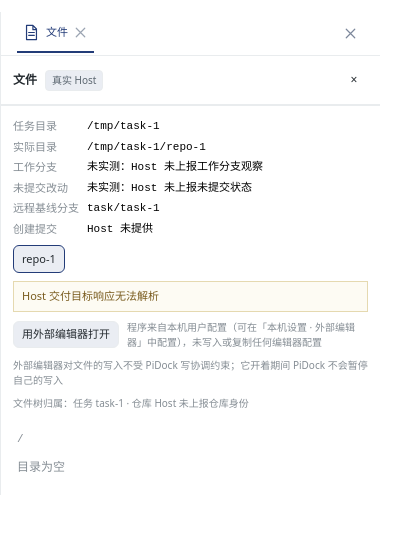
Test: #15 box 28 external editor from the file panel › treats a malformed launch receipt as an error, never as a successful launch
This screenshot has width=397, height=551.
Click the button "用外部编辑器打开": (66, 335) left=13, top=321, right=119, bottom=348
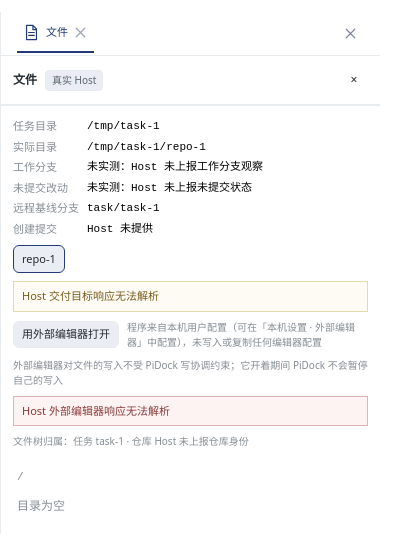
Result: the text "Host 外部编辑器响应无法解析" is shown at left=13, top=396, right=368, bottom=426
